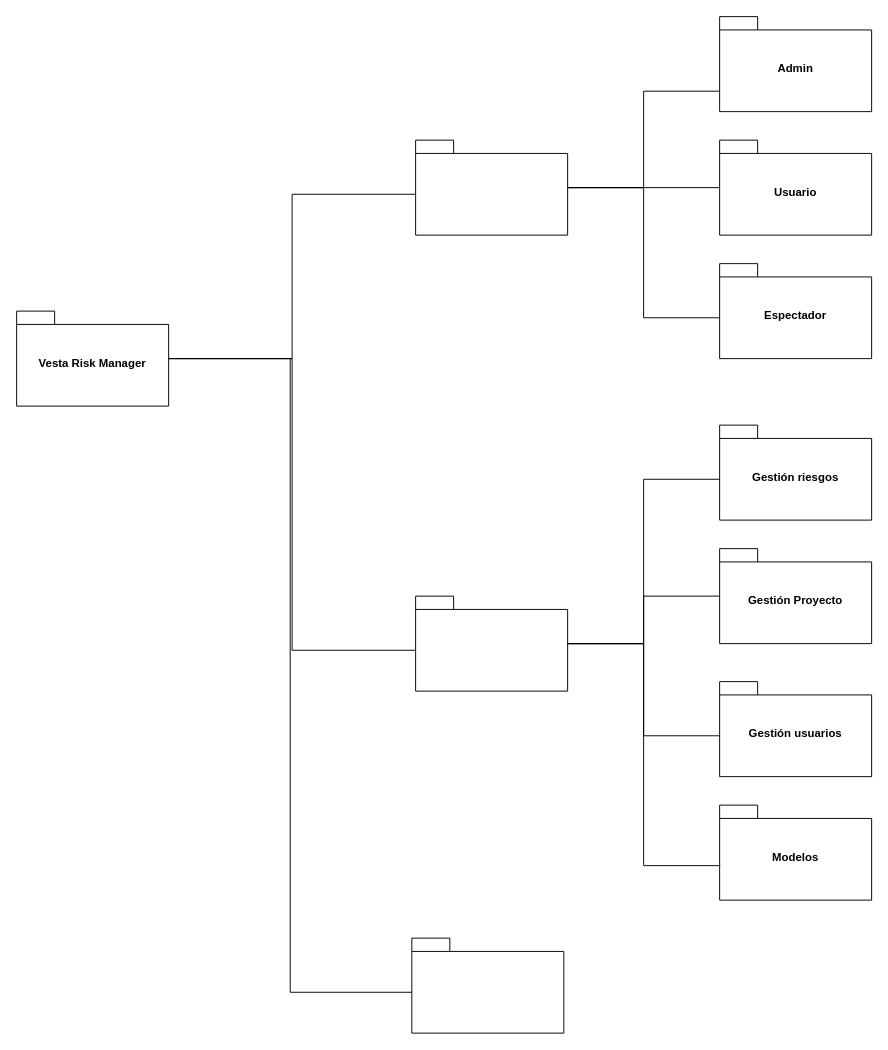
Some shapes in this 888 by 1050 pixel diagram are drawn without their labels. The shapes that lost their labels are listed below. From the top down, each one's centre as x and y in pixels, then its label:
At [491,187]: "Presentación".
At [491,643]: "Logica".
At [487,985]: "Base de datos".
